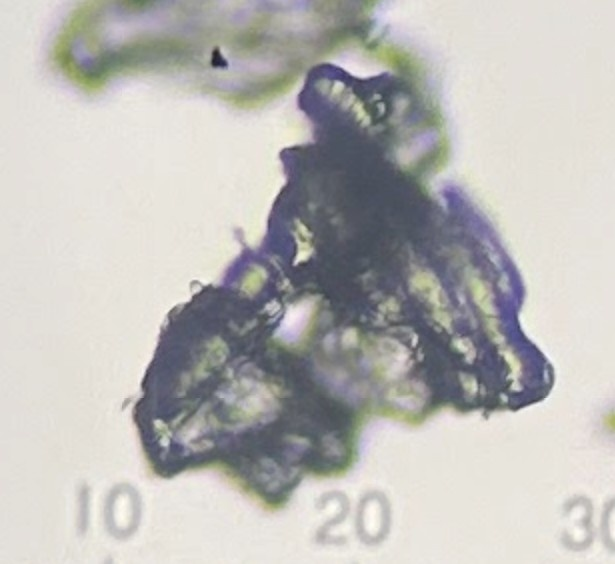microplastic: (132, 64, 556, 510), (51, 1, 452, 180), (598, 405, 615, 439)
